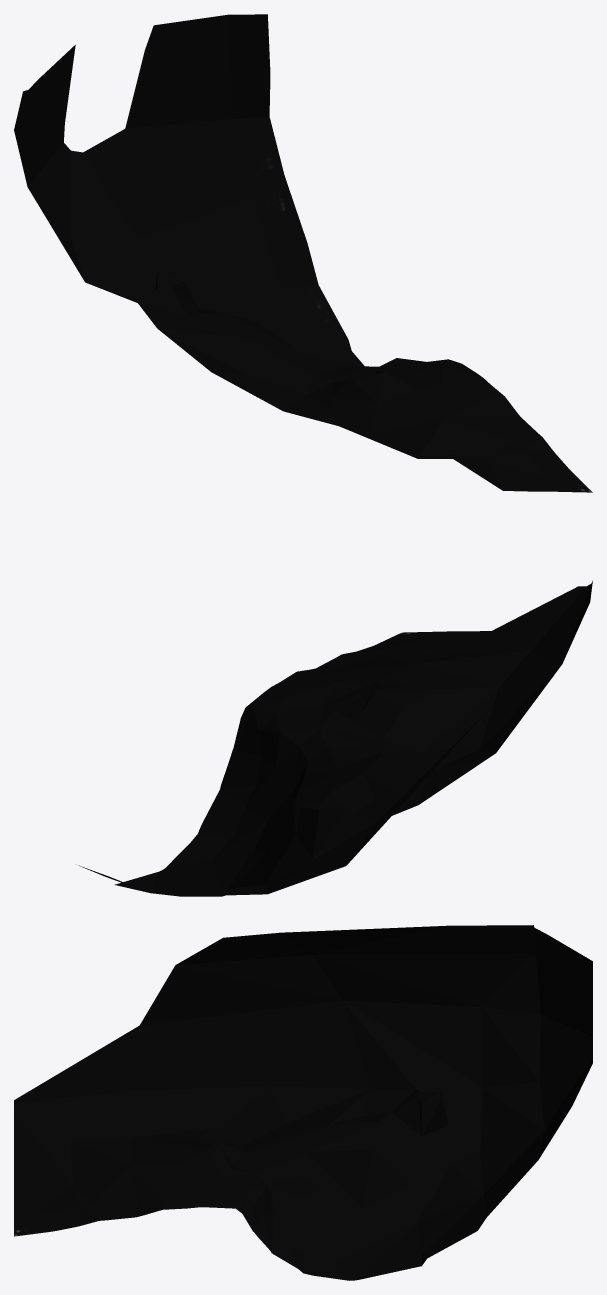
3 views of the same model, one above another, from view 1: azimuth 30°, elevation 25°; view 2: azimuth 150°, elevation 25°; view 3: azimuth 270°, elevation 25° (orthographic). The views are drawn at different scales.
Size of the model in its own units: 1.53 by 1.58 by 3.35.
2 materials, 2 textured.
